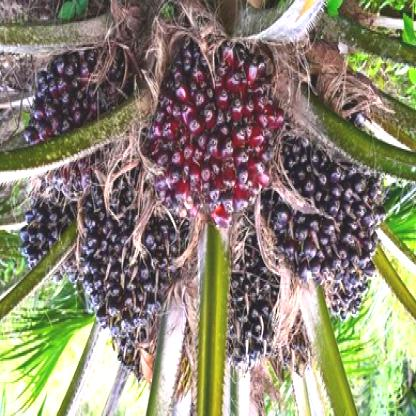1: (153, 32, 283, 226)
palm-oil: (272, 133, 380, 311), (16, 52, 135, 191), (76, 194, 185, 332), (224, 240, 286, 368), (19, 191, 77, 287)
